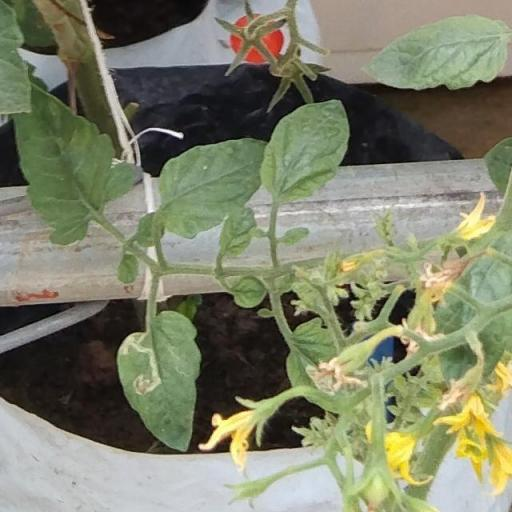Healthy: (14, 84, 143, 242), (360, 14, 509, 93), (157, 136, 268, 241)
Leaf_Miner: (118, 307, 202, 456)
